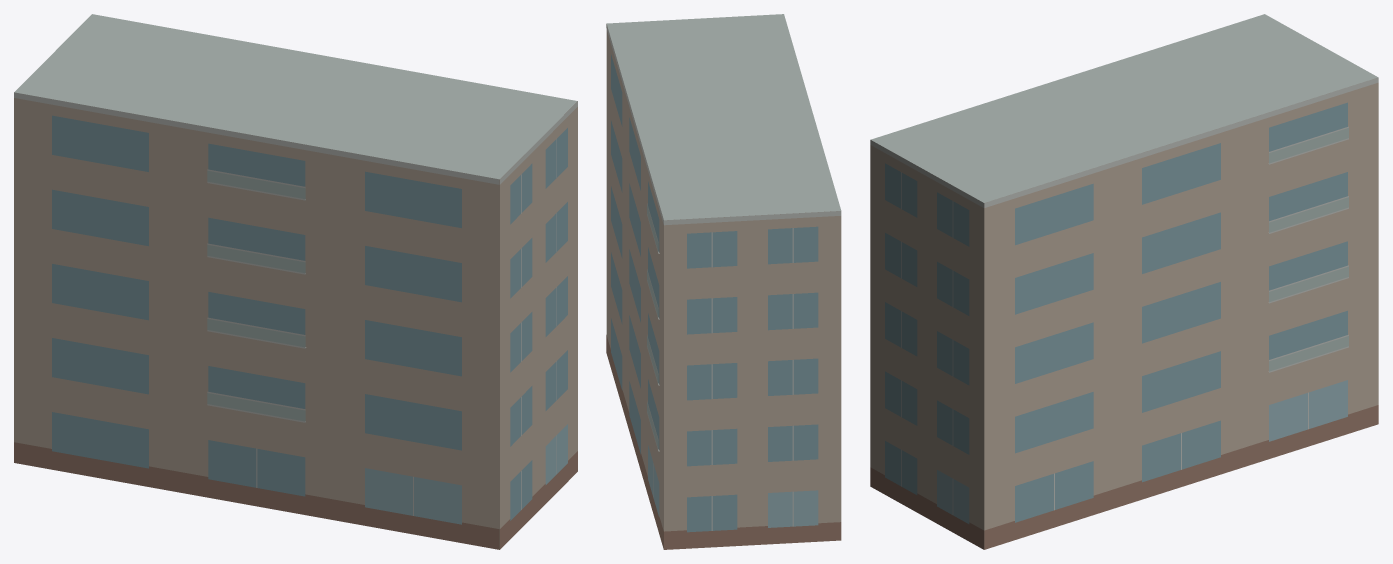
File: survey-upis-32718429.glb
The picture shows the model from 3 angles, left to right: view 1: azimuth 30°, elevation 25°; view 2: azimuth 150°, elevation 25°; view 3: azimuth 270°, elevation 25°; orthographic projection. The views are drawn at different scales.
Visible parts, largest first — view 1: survey-upis-32718429.tmp; view 2: survey-upis-32718429.tmp; view 3: survey-upis-32718429.tmp.
Boxes of the visible parts, box(x1,y1,x2,y2) form: survey-upis-32718429.tmp: box(14, 14, 577, 549); survey-upis-32718429.tmp: box(606, 14, 841, 549); survey-upis-32718429.tmp: box(870, 14, 1378, 549).
Bounding box in the file's own units: 19.06 × 16.3 × 21.65.
